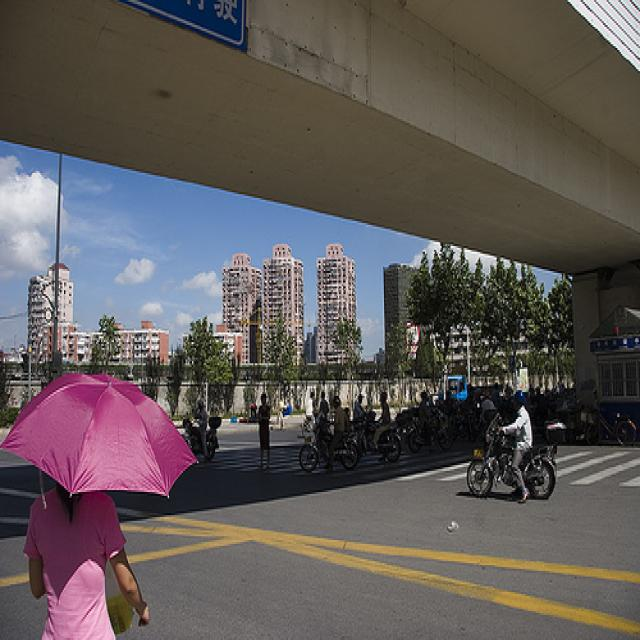motor: (468, 415, 559, 506), (299, 410, 360, 473), (406, 404, 454, 451), (362, 410, 403, 463), (181, 420, 221, 462), (303, 416, 315, 443)
